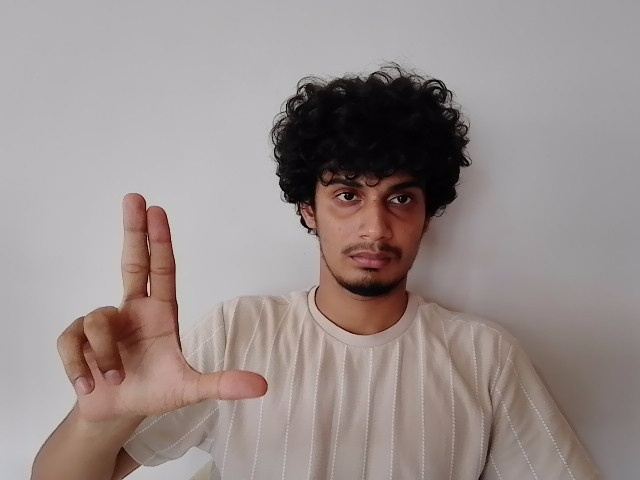no: (54, 192, 268, 415)
